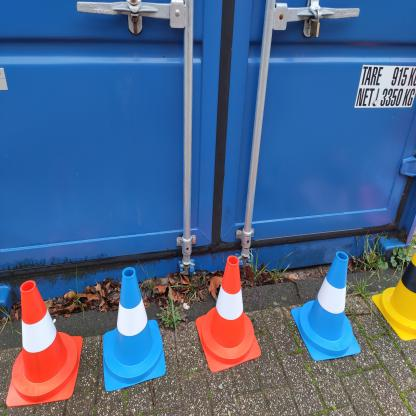Cones_small_blue: (287, 243, 373, 374), (97, 267, 179, 388)
Cones_small_orange: (5, 272, 86, 410), (189, 252, 269, 375)
